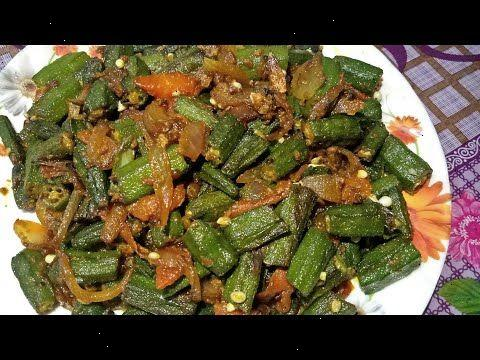bhindi: (32, 52, 403, 296)
